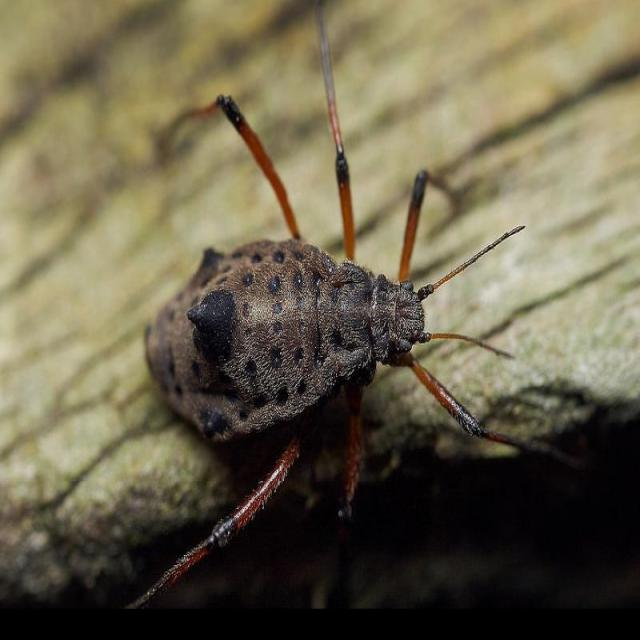Aphids: (80, 89, 530, 574)
